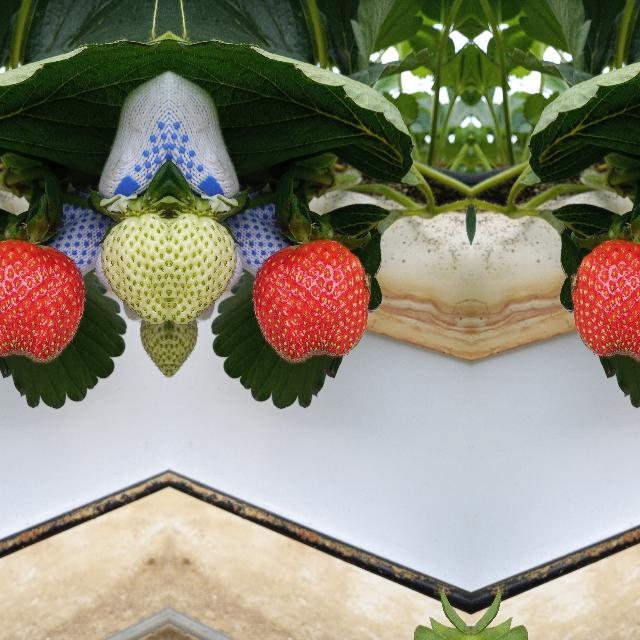Health_100: (250, 238, 370, 364), (0, 238, 86, 363), (571, 238, 640, 363)
Health_25: (168, 202, 248, 322), (88, 202, 168, 322), (168, 300, 196, 378), (140, 300, 168, 378)
